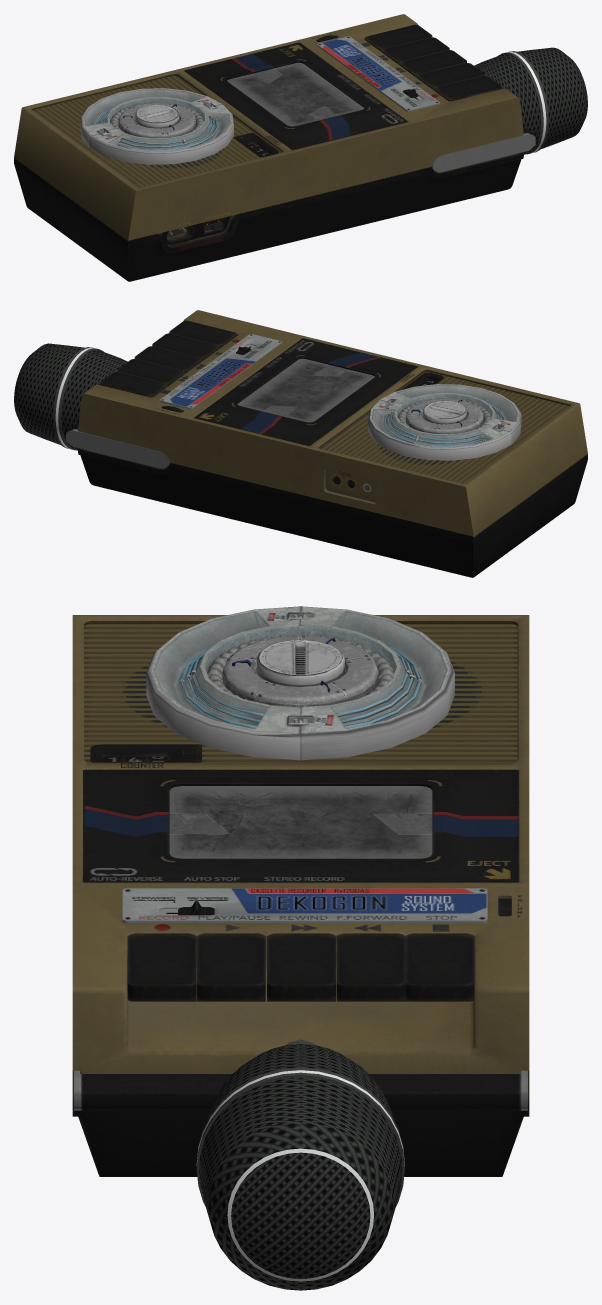
The model's file is traductor.glb.
The picture shows the model from 3 angles, top to bottom: view 1: azimuth 30°, elevation 25°; view 2: azimuth 150°, elevation 25°; view 3: azimuth 270°, elevation 25°; orthographic projection. The views are drawn at different scales.
Visible parts, largest first — view 1: SM_TapeRecorder_01a.smd.007, Astro Claw Base; view 2: SM_TapeRecorder_01a.smd.007, Astro Claw Base; view 3: SM_TapeRecorder_01a.smd.007, Astro Claw Base.
Boxes of the visible parts, x1=… form: SM_TapeRecorder_01a.smd.007: x1=14, y1=14, x2=587, y2=281; Astro Claw Base: x1=80, y1=88, x2=233, y2=164; SM_TapeRecorder_01a.smd.007: x1=14, y1=310, x2=587, y2=577; Astro Claw Base: x1=368, y1=384, x2=521, y2=460; SM_TapeRecorder_01a.smd.007: x1=72, y1=615, x2=529, y2=1290; Astro Claw Base: x1=146, y1=606, x2=454, y2=760.
Bounding box in the file's own units: 0.2704 × 0.0636 × 0.1056.
Materials: 8 (7 with a texture image).
